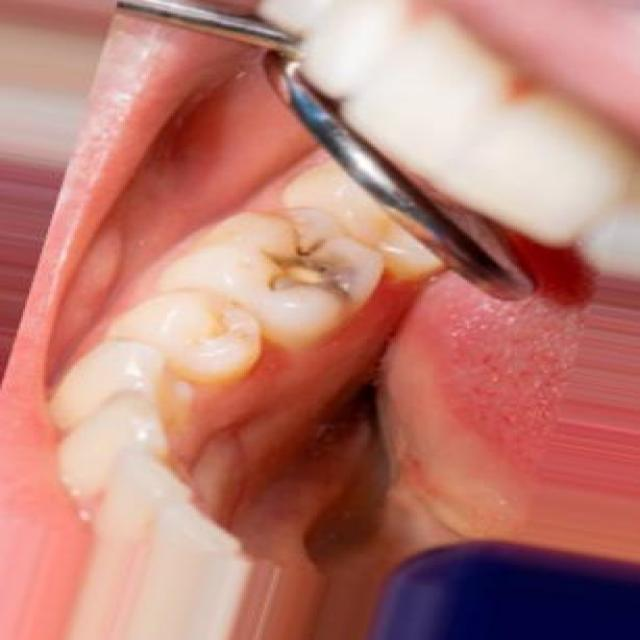caries: (238, 212, 390, 323)
